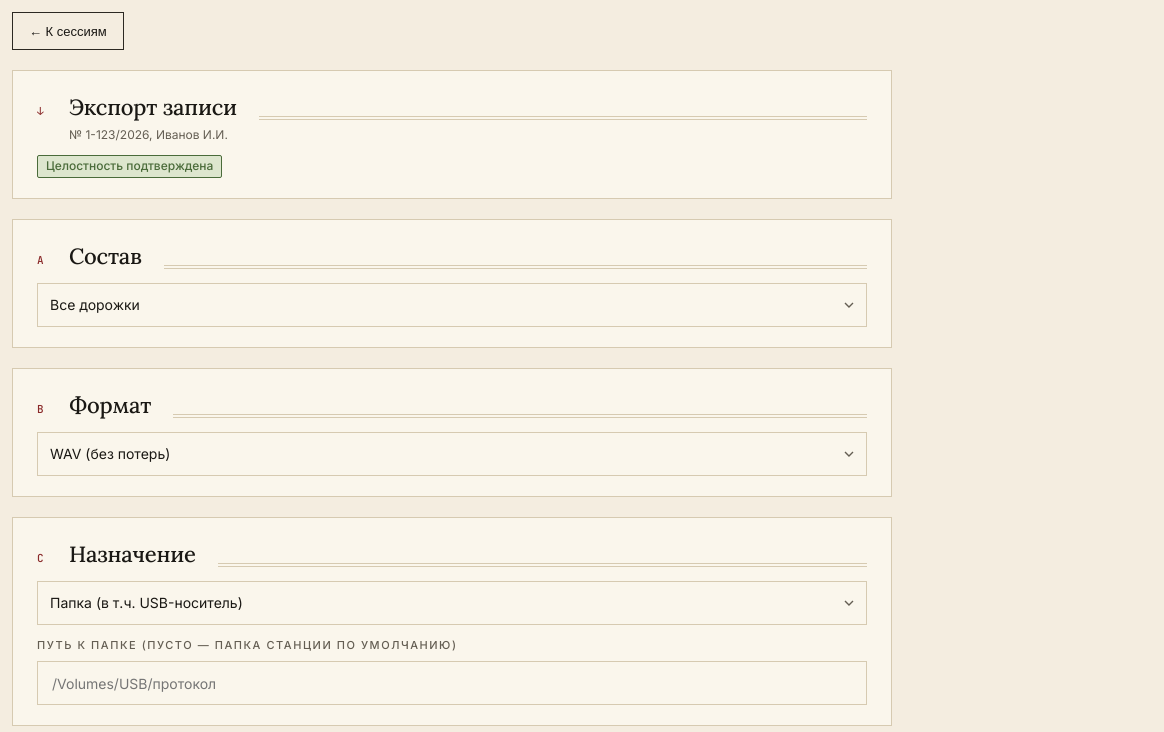
ExportScreen › назначение DVD без привода показывает понятную диагностику, папка остаётся доступна
Expected: the text "Целостность подтверждена" is shown, [37,155,222,178]
Click the dropdown named "Назначение". click: (146, 603)
box: [37,581,867,625]
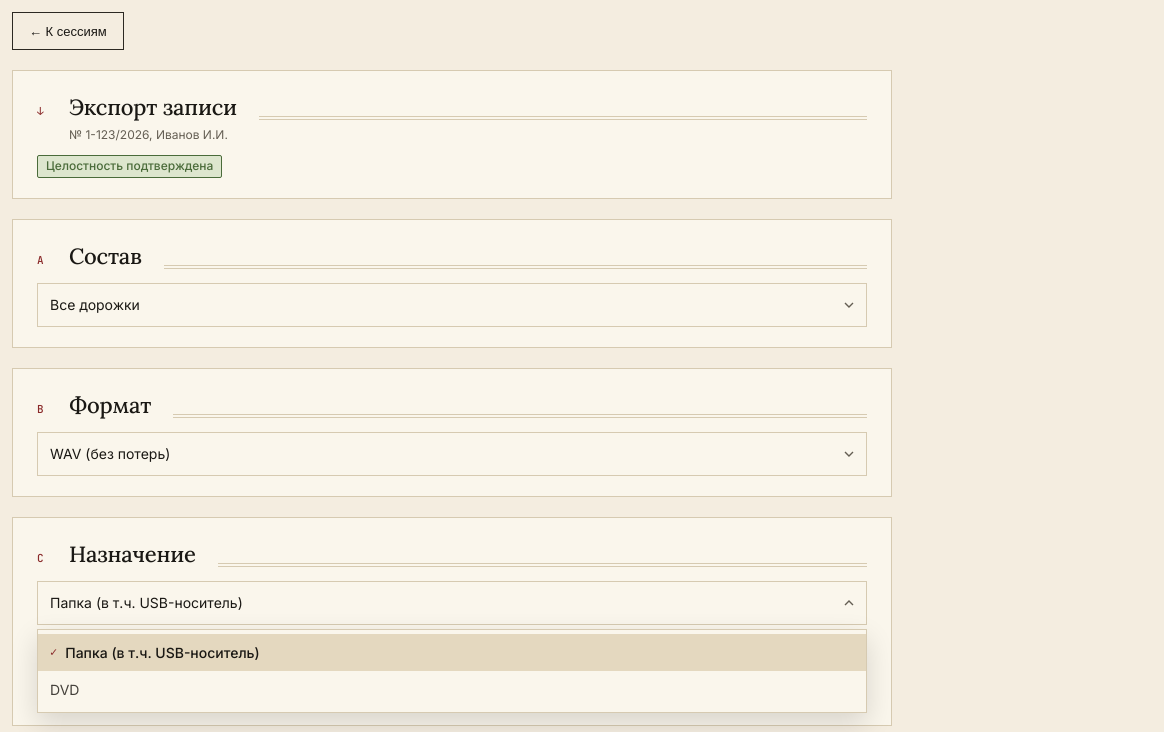
Click the option "DVD". click: (65, 689)
box: [50,681,79,698]
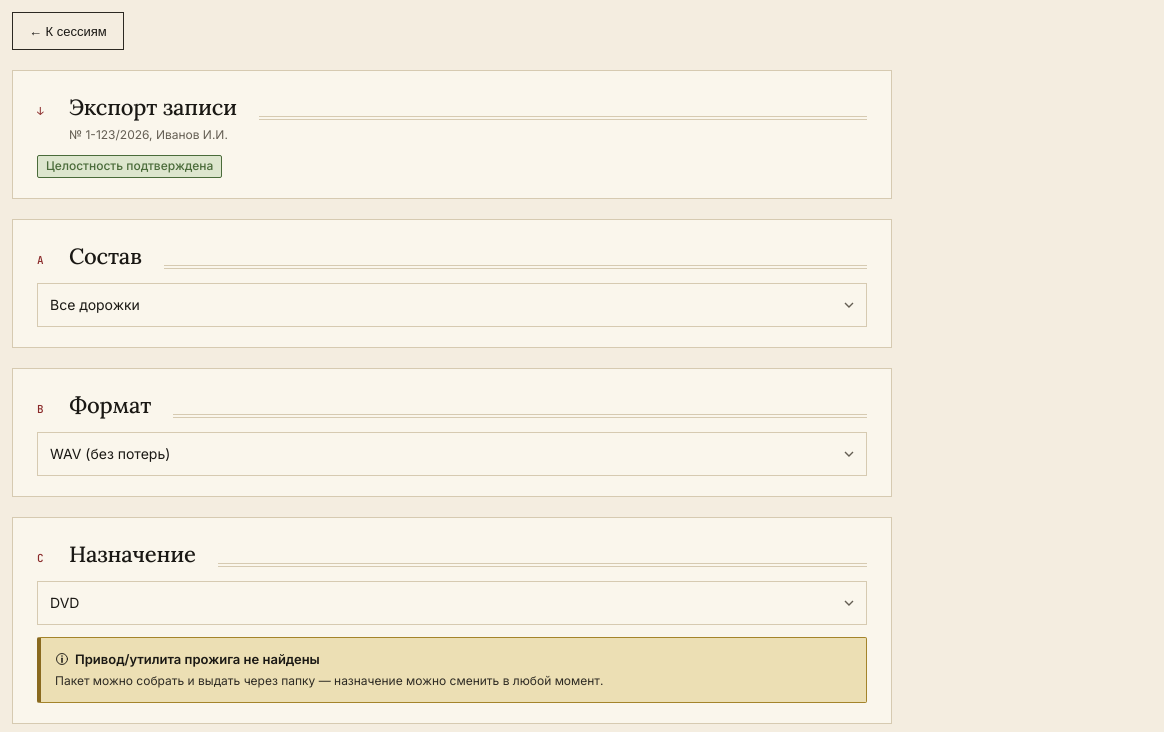
Expected: the text "Привод/утилита прожига не найдены" is shown, [75,650,320,668]
